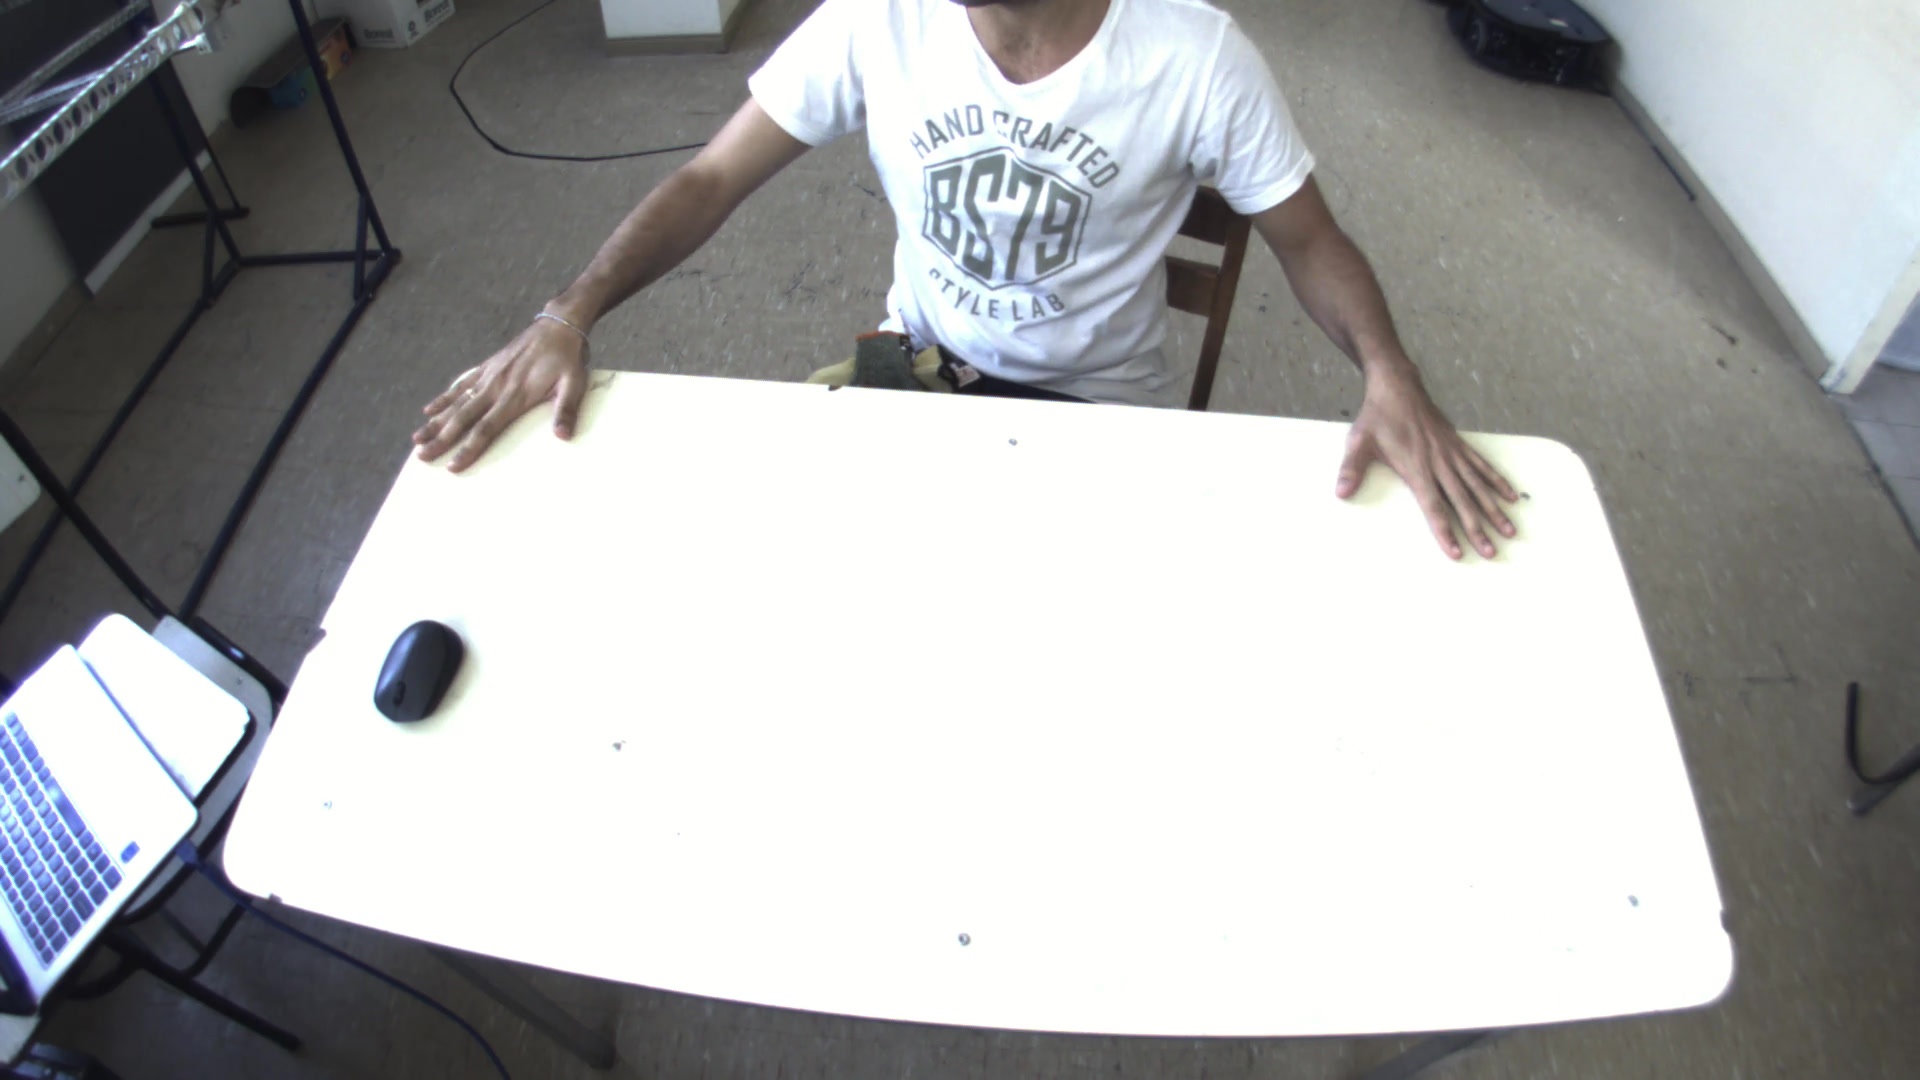hand: (1336, 373, 1548, 566), (396, 295, 603, 479)
